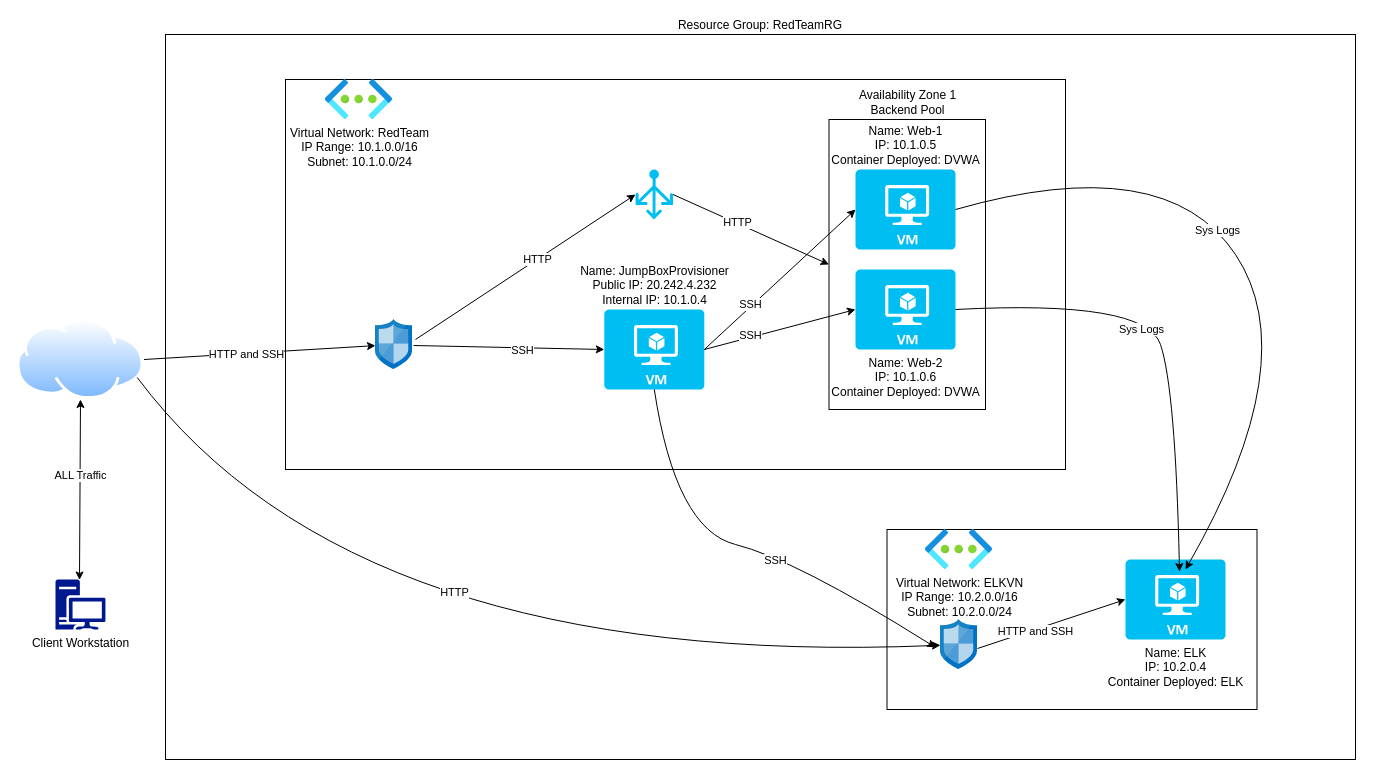
Some shapes in this 1373 by 777 pixel diagram are drawn without their labels. The shapes that lost their labels are listed below. From the top down, each one's centre as x and y in pixels, then its label:
(x=653, y=194): Load Balancer IP: 20.88.112.97
(x=80, y=359): Internet
(x=393, y=344): Security Group: RedTeamSG
(x=958, y=644): Security Group: ELKSG
